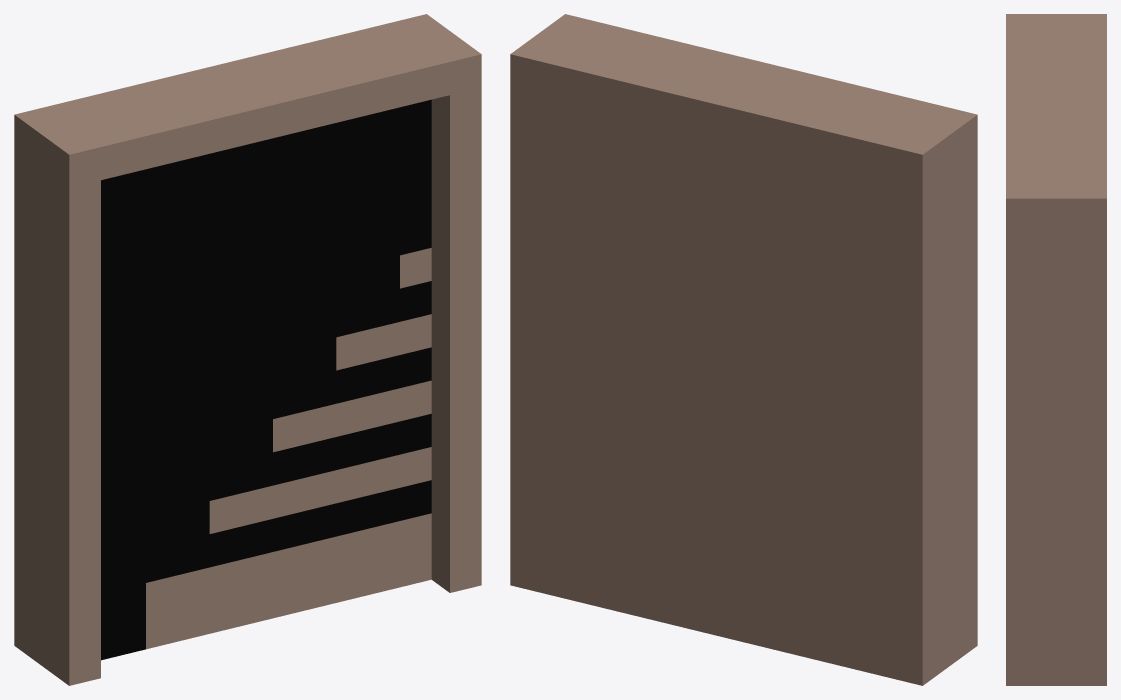
File: dungeon_a_b_entrance_b.obj
3 renders of one model, left to right at view 1: azimuth 30°, elevation 25°; view 2: azimuth 150°, elevation 25°; view 3: azimuth 270°, elevation 25°, orthographic. The views are drawn at different scales.
Size of the model in its own units: 1.3 by 1.6 by 0.3.
Materials: 1 (1 with a texture image).
